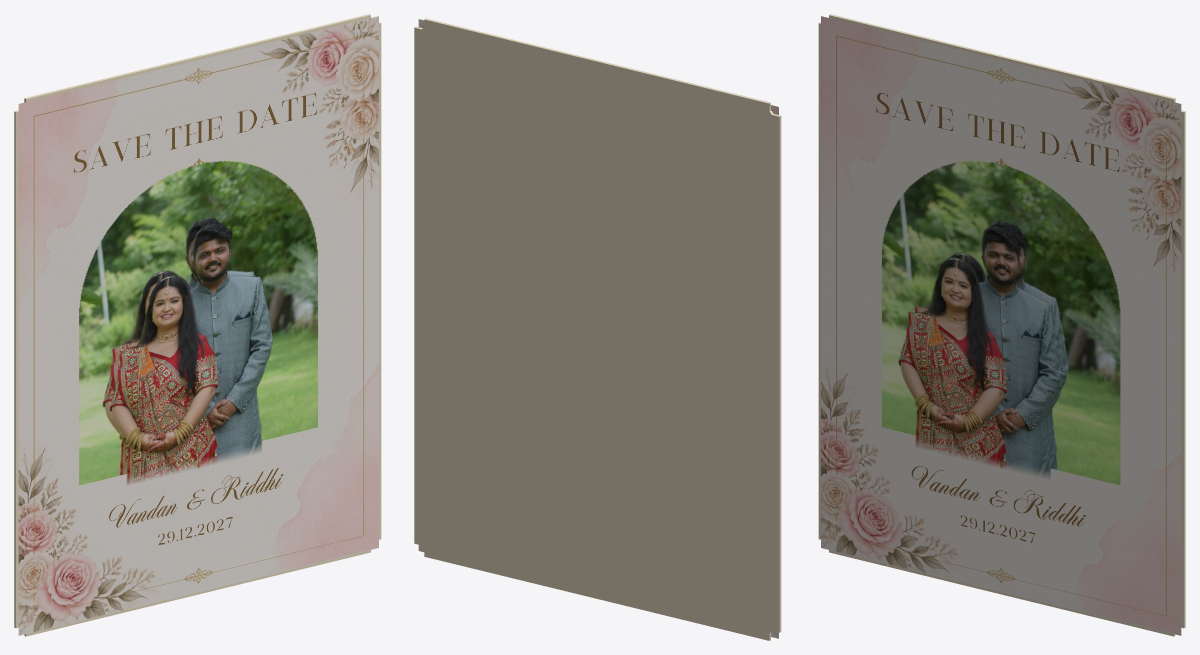
The model's file is vandan_riddhi_card_3D_AR.glb.
The picture shows the model from 3 angles, left to right: view 1: azimuth 30°, elevation 25°; view 2: azimuth 150°, elevation 25°; view 3: azimuth 330°, elevation 25°; orthographic projection.
Parts seen in each view (by area): view 1: Layer1_Canva_Card_Base, Layer2_Couple_PopOut, Layer3_Card_Backing; view 2: Layer3_Card_Backing; view 3: Layer1_Canva_Card_Base, Layer2_Couple_PopOut, Layer3_Card_Backing.
Part boxes in pixels (left/top/right/bottom): Layer1_Canva_Card_Base: left=18, top=16, right=378, bottom=635; Layer2_Couple_PopOut: left=110, top=223, right=272, bottom=484; Layer3_Card_Backing: left=14, top=14, right=381, bottom=636; Layer3_Card_Backing: left=414, top=18, right=781, bottom=640; Layer1_Canva_Card_Base: left=821, top=16, right=1181, bottom=635; Layer2_Couple_PopOut: left=898, top=225, right=1061, bottom=478; Layer3_Card_Backing: left=818, top=14, right=1185, bottom=636.
Bounding box in the file's own units: 1.08 × 1.51 × 0.044.
Materials: 3 (2 with a texture image).
